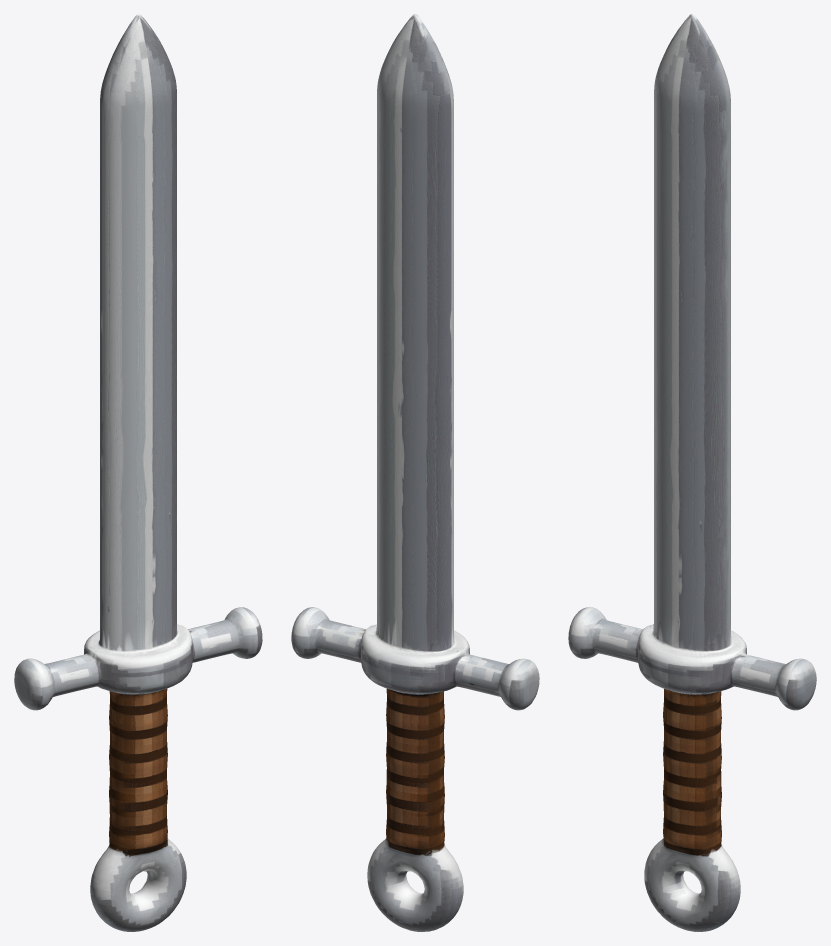
File: Standard.glb
The picture shows the model from 3 angles, left to right: view 1: azimuth 30°, elevation 25°; view 2: azimuth 150°, elevation 25°; view 3: azimuth 330°, elevation 25°; orthographic projection.
Visible parts, largest first — view 1: Mesh_0; view 2: Mesh_0; view 3: Mesh_0.
Part boxes in pixels (x1,y1,x2,y2): Mesh_0: (14,14,262,931); Mesh_0: (291,14,539,931); Mesh_0: (568,14,816,931).
Bounding box in the file's own units: 0.5052 × 1.9 × 0.187.
1 material, 1 textured.
